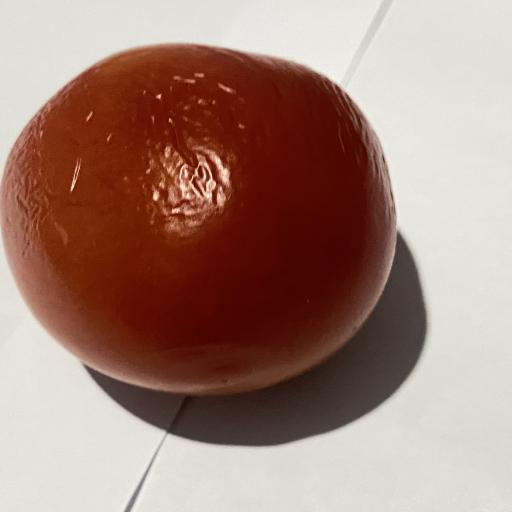spoiled: (0, 44, 396, 395)
